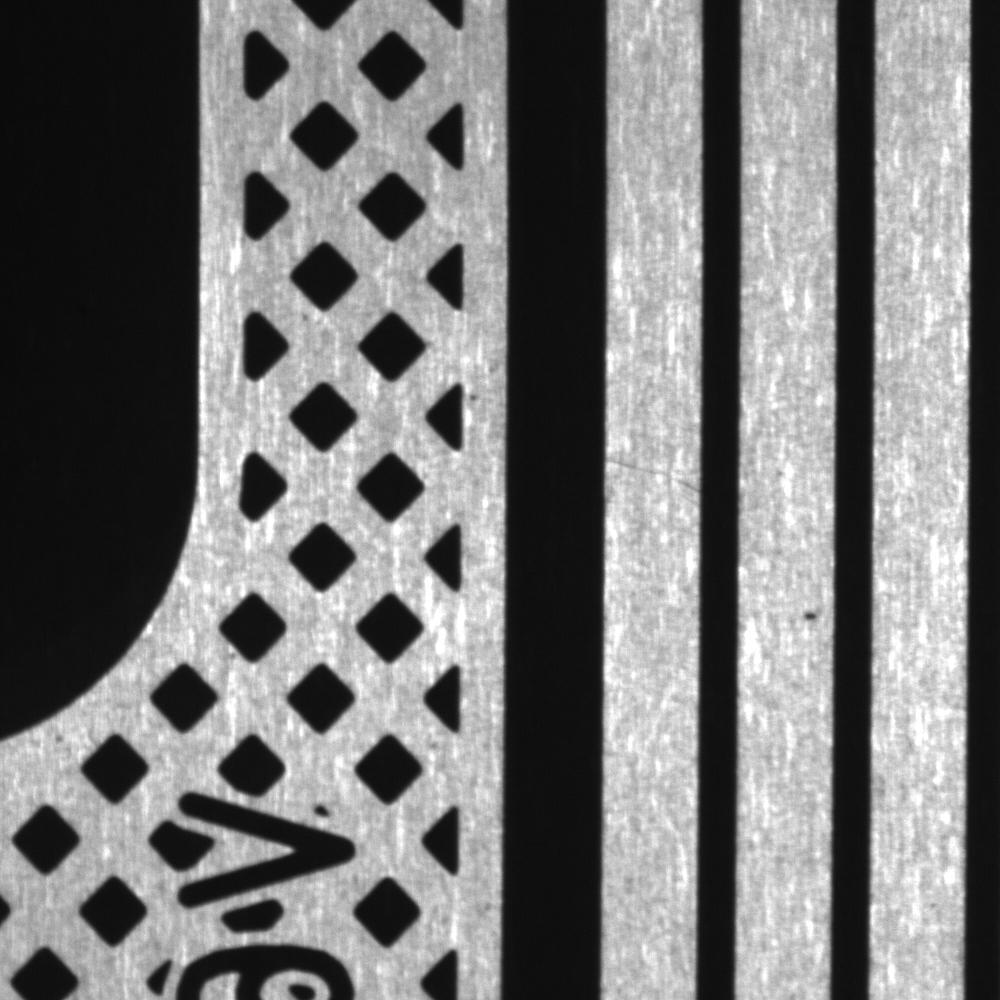Etching: (796, 601, 825, 633)
Scar: (608, 440, 702, 499)
